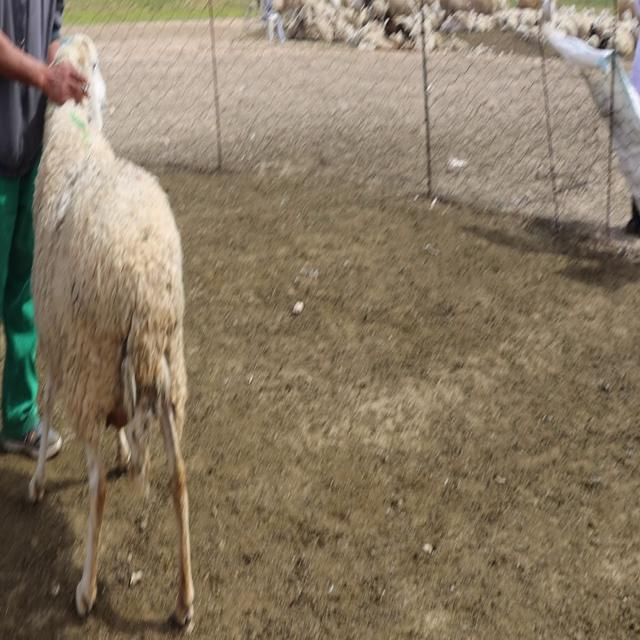Score_4: (28, 33, 194, 627)
